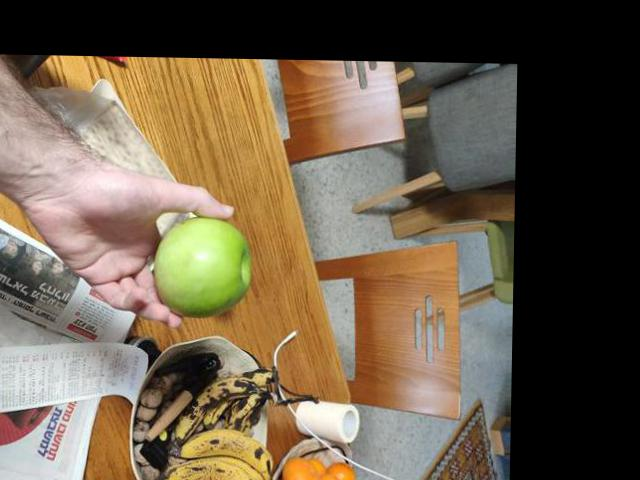apple: (146, 208, 264, 319)
